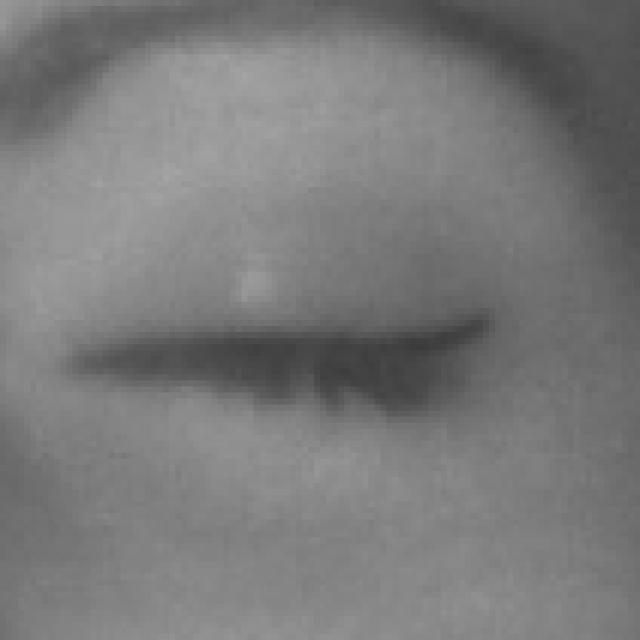Eyeclosed: (78, 164, 489, 563)
